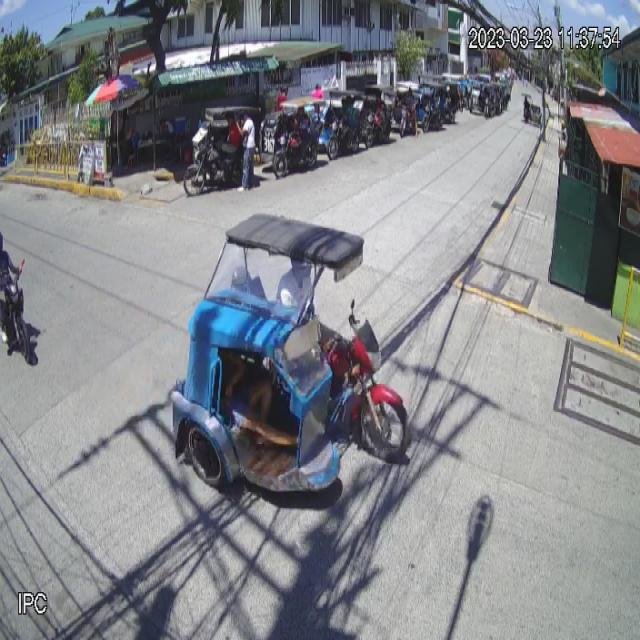Tricycle: (169, 212, 413, 498)
